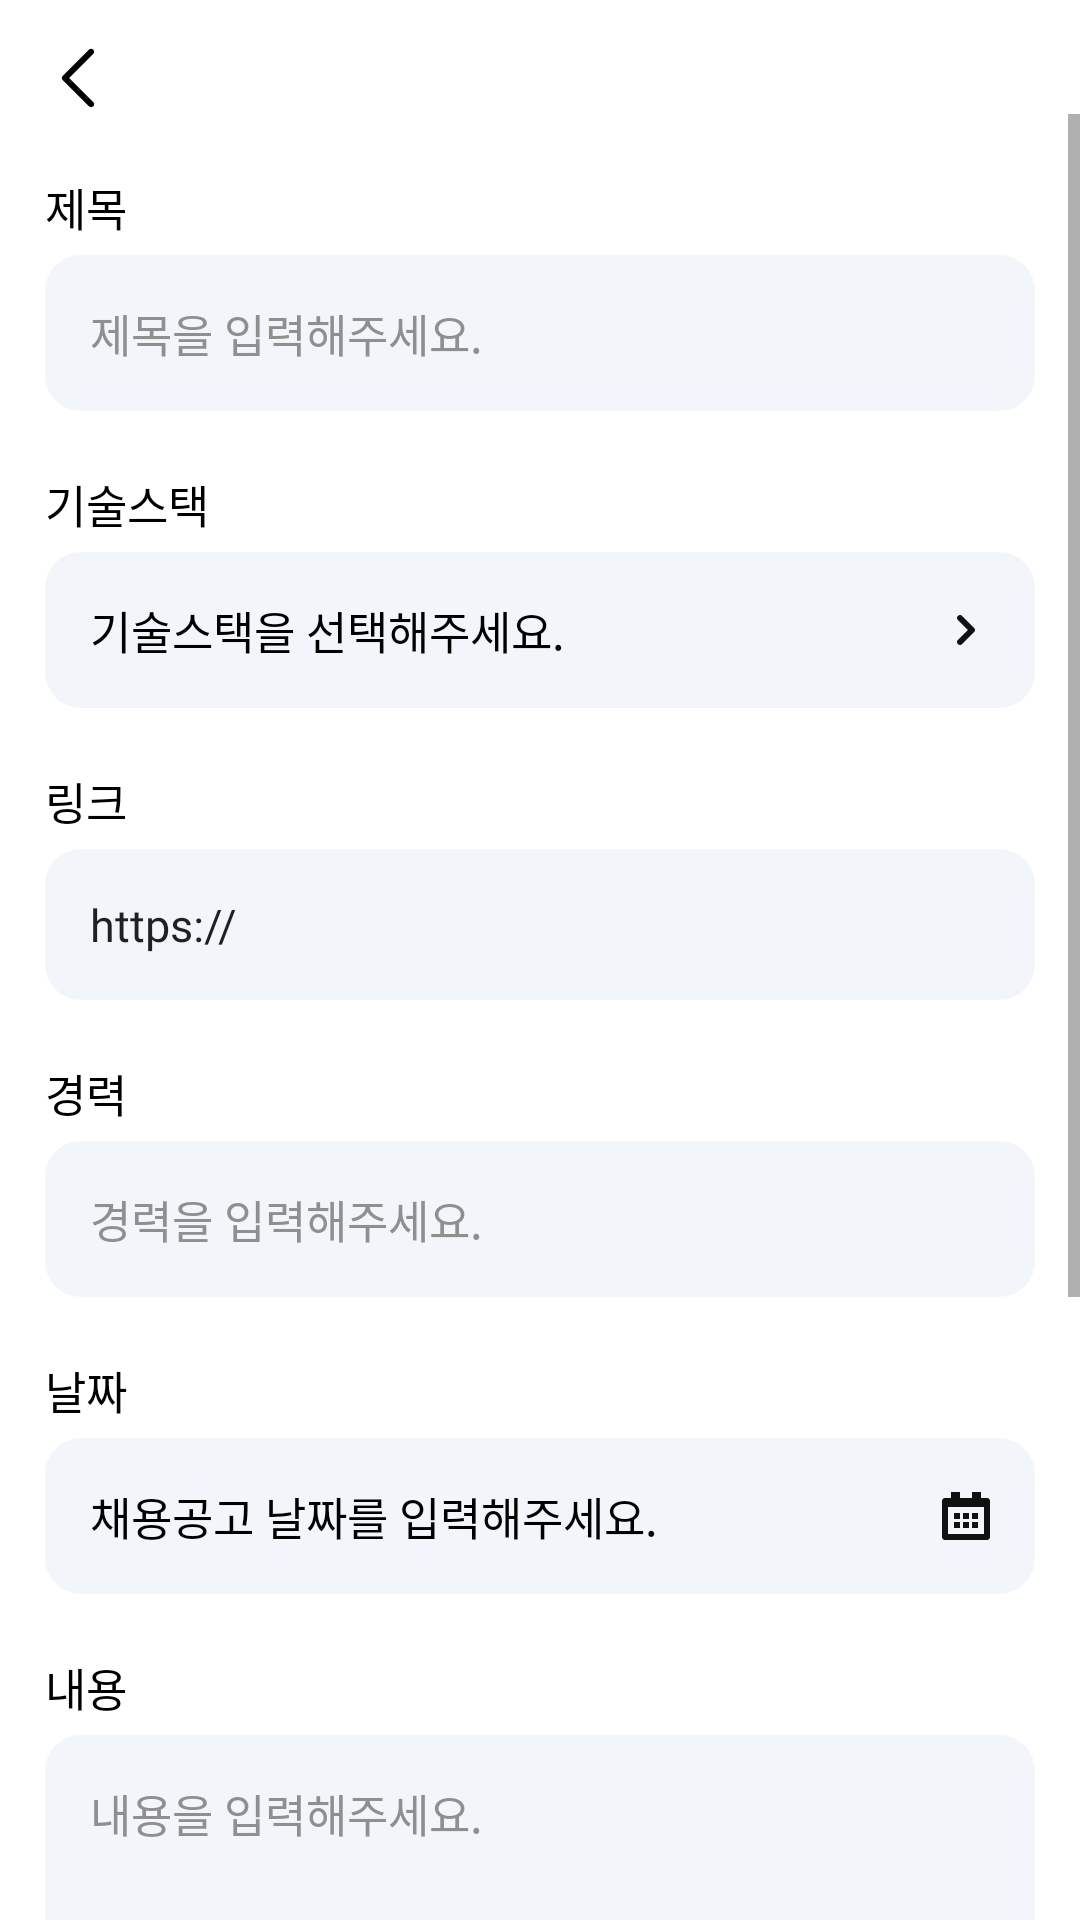

Where to tap for icons on this 1080 × 1920 app screen, as (x,y):
back: (78,78)
